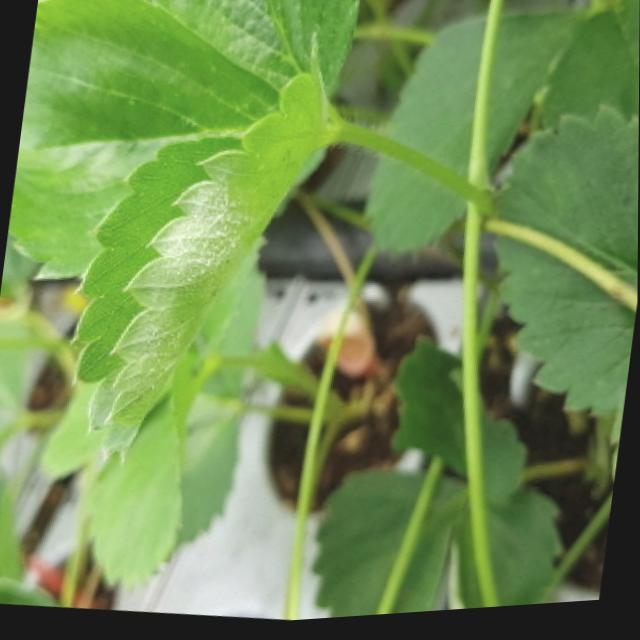Powdery Mildew Leaf: (72, 37, 339, 462)
